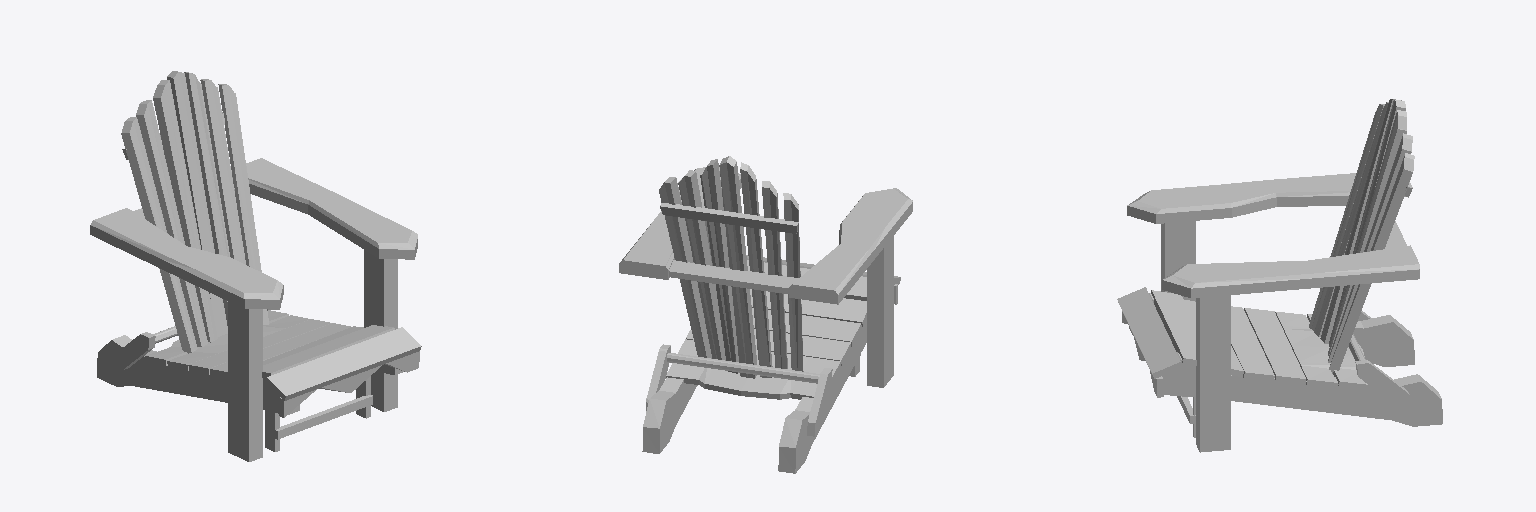
The model's file is chair1.obj.
3 renders of one model, left to right at view 1: azimuth 30°, elevation 25°; view 2: azimuth 150°, elevation 25°; view 3: azimuth 270°, elevation 25°, orthographic.
Parts seen in each view (by area): view 1: chair2 pCube18, chair2 pCube20, chair2 pCube22, chair2 pCube21, chair2 pCube1, chair2 pCube5, chair2 pCube4, chair2 pCube2, chair2 pCube19, pCube6 chair2, chair2 pCube17, chair2 pCube13 (+5 smaller); view 2: chair2 pCube18, chair2 pCube20, chair2 pCube21, chair2 pCube22, chair2 pCube1, chair2 pCube19, chair2 pCube24, chair2 pCube4, chair2 pCube3, chair2 pCube16, chair2 pCube23, chair2 pCube25 (+5 smaller); view 3: chair2 pCube18, chair2 pCube3, chair2 pCube2, chair2 pCube22, chair2 pCube20, chair2 pCube5, chair2 pCube21, chair2 pCube4, chair2 pCube13, chair2 pCube12, pCube6 chair2, chair2 pCube8 (+4 smaller).
Boxes of the visible parts, <box> form: chair2 pCube18: <box>90,158,417,309</box>; chair2 pCube20: <box>153,72,229,342</box>; chair2 pCube22: <box>121,84,268,353</box>; chair2 pCube21: <box>136,79,245,346</box>; chair2 pCube1: <box>228,301,262,461</box>; chair2 pCube5: <box>265,327,421,400</box>; chair2 pCube4: <box>97,335,299,414</box>; chair2 pCube2: <box>364,250,397,411</box>; chair2 pCube19: <box>167,71,227,336</box>; pCube6 chair2: <box>262,325,394,377</box>; chair2 pCube17: <box>279,351,419,417</box>; chair2 pCube13: <box>167,315,309,370</box>; chair2 pCube18: <box>619,167,912,304</box>; chair2 pCube20: <box>700,159,772,377</box>; chair2 pCube21: <box>678,170,787,368</box>; chair2 pCube22: <box>659,177,803,371</box>; chair2 pCube1: <box>867,236,893,387</box>; chair2 pCube19: <box>719,156,756,378</box>; chair2 pCube24: <box>666,363,816,399</box>; chair2 pCube4: <box>778,319,866,473</box>; chair2 pCube3: <box>642,377,697,453</box>; chair2 pCube16: <box>669,260,798,293</box>; chair2 pCube23: <box>660,203,798,233</box>; chair2 pCube25: <box>646,344,832,436</box>; chair2 pCube18: <box>1127,173,1419,298</box>; chair2 pCube3: <box>1162,352,1442,426</box>; chair2 pCube2: <box>1196,295,1230,452</box>; chair2 pCube22: <box>1309,104,1414,373</box>; chair2 pCube20: <box>1320,99,1406,355</box>; chair2 pCube5: <box>1117,287,1182,378</box>; chair2 pCube21: <box>1314,102,1412,362</box>; chair2 pCube4: <box>1129,293,1414,366</box>; chair2 pCube13: <box>1275,312,1337,388</box>; chair2 pCube12: <box>1244,308,1305,384</box>; pCube6 chair2: <box>1151,290,1196,365</box>; chair2 pCube8: <box>1231,306,1274,381</box>.
Size of the model in its own units: 3.07 by 3.65 by 3.67.